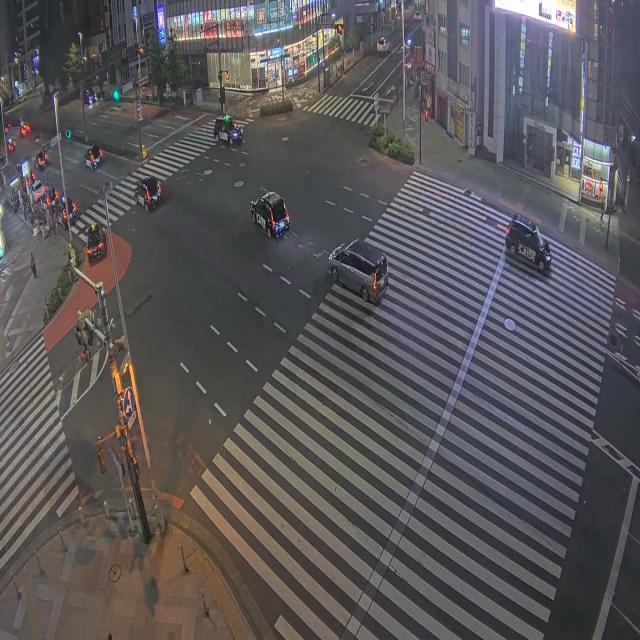car: (329, 240, 388, 303), (505, 215, 551, 272), (251, 192, 289, 237), (135, 176, 161, 210), (214, 114, 243, 144), (86, 224, 106, 262), (55, 197, 76, 228), (84, 145, 102, 170), (32, 181, 46, 201), (47, 185, 59, 206), (84, 88, 97, 106), (35, 152, 48, 169), (5, 120, 22, 133), (377, 38, 389, 55), (6, 138, 16, 153), (21, 123, 30, 136), (413, 10, 421, 20)
